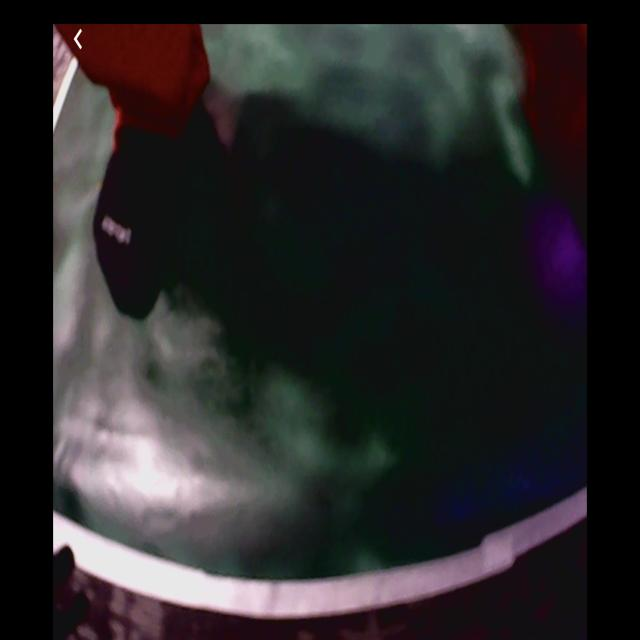ball: (536, 212, 587, 295)
